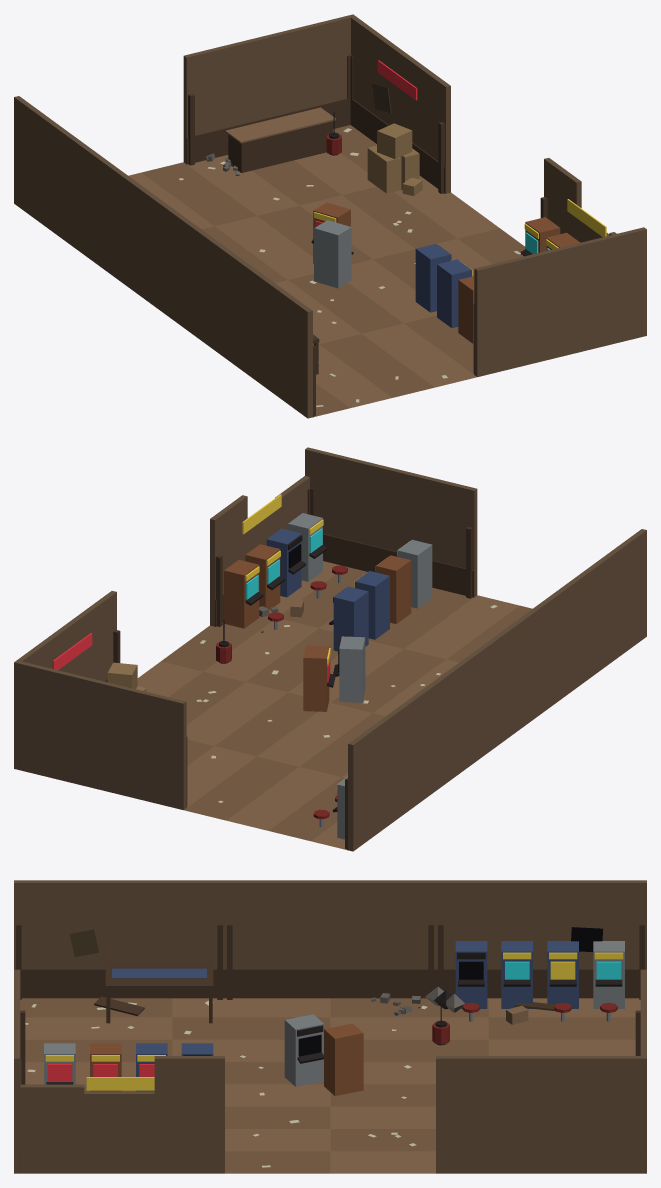
3 renders of one model, top to bottom at view 1: azimuth 30°, elevation 25°; view 2: azimuth 150°, elevation 25°; view 3: azimuth 270°, elevation 25°, orthographic. The views are drawn at different scales.
Parts seen in each view (by area): view 1: =_B, =_B_Deco; view 2: =_B, =_B_Deco; view 3: =_B, =_B_Deco.
Part boxes in pixels (x1,y1,x2,y2): =_B: (14,14,646,418); =_B_Deco: (179,55,641,417); =_B: (14,447,646,851); =_B_Deco: (19,488,497,850); =_B: (14,880,646,1173); =_B_Deco: (14,923,646,1171).
Size of the model in its own units: 2 by 1.33 by 0.408.
